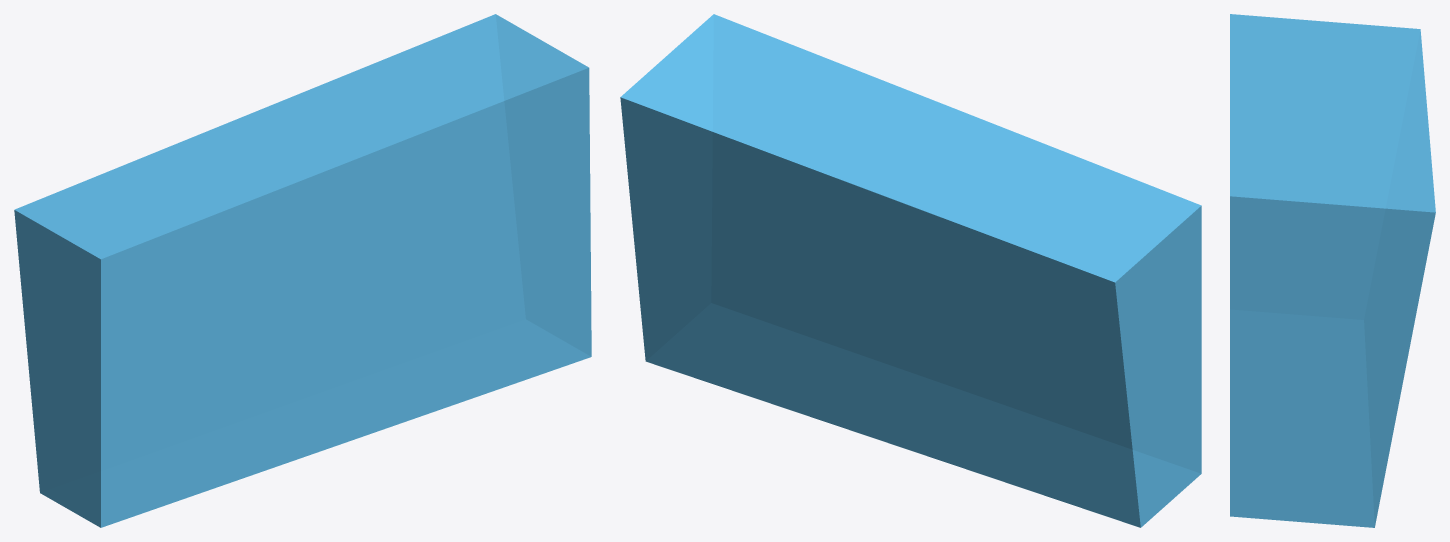
The model's file is Event_421127236_HErechit_45.fbx.
3 renders of one model, left to right at view 1: azimuth 30°, elevation 25°; view 2: azimuth 150°, elevation 25°; view 3: azimuth 270°, elevation 25°, orthographic. The views are drawn at different scales.
Parts seen in each view (by area): view 1: Model; view 2: Model; view 3: Model.
Part boxes in pixels (x1=…): Model: x1=14, y1=14, x2=591, y2=527; Model: x1=620, y1=14, x2=1201, y2=527; Model: x1=1230, y1=14, x2=1435, y2=527.
Size of the model in its own units: 0.8939 by 0.6105 by 0.2951.
